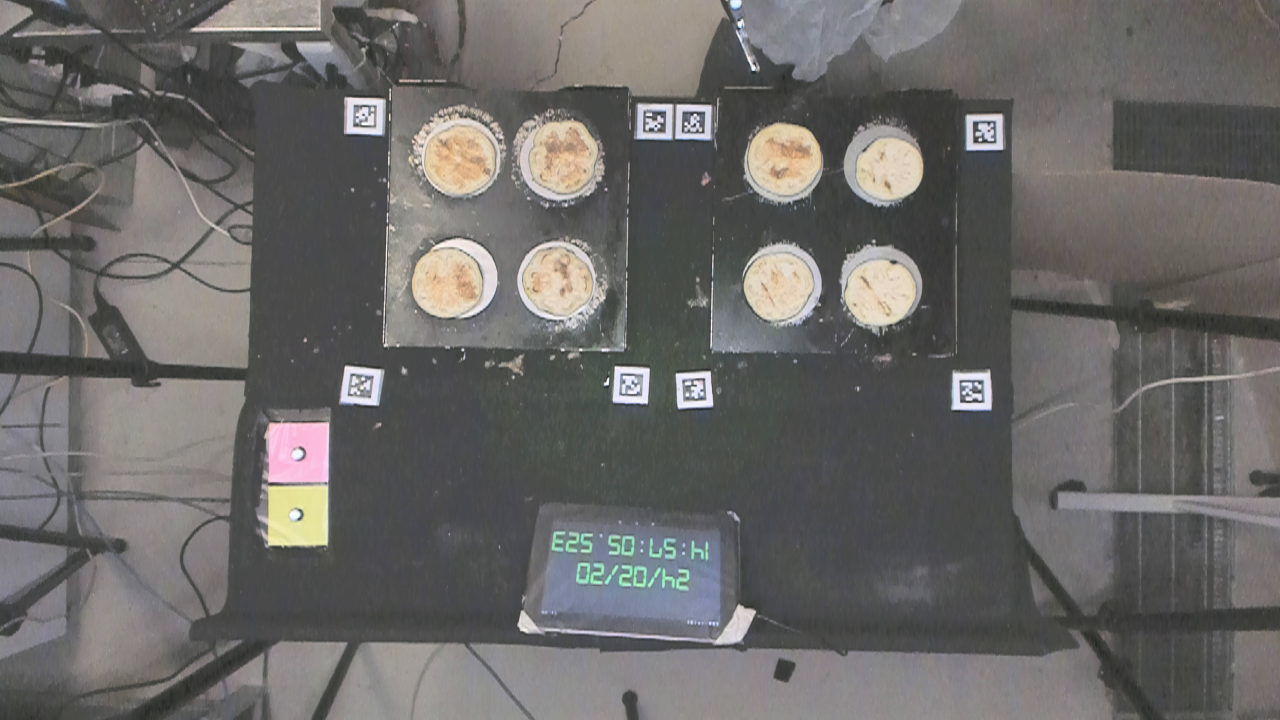eggplant: (735, 114, 825, 205), (520, 238, 604, 322), (403, 242, 489, 321), (842, 243, 916, 333), (739, 239, 816, 323), (528, 120, 604, 202), (847, 136, 926, 213), (424, 124, 500, 200)
marker: (263, 421, 333, 484)
